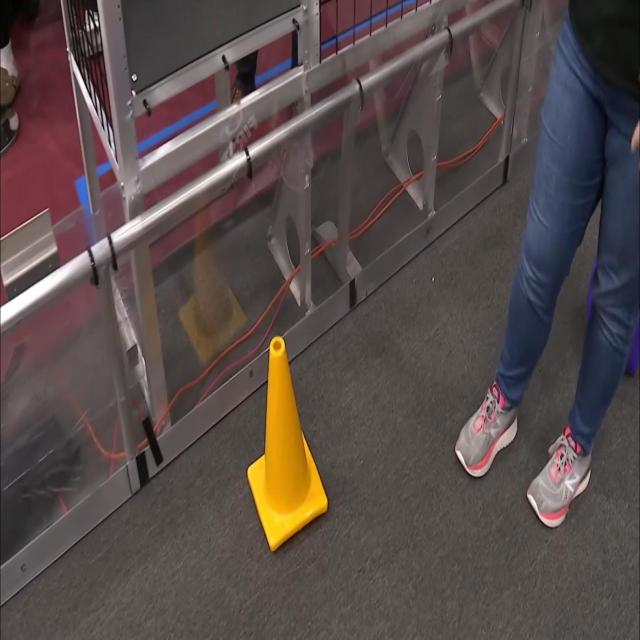frc_cone: (245, 334, 329, 550)
